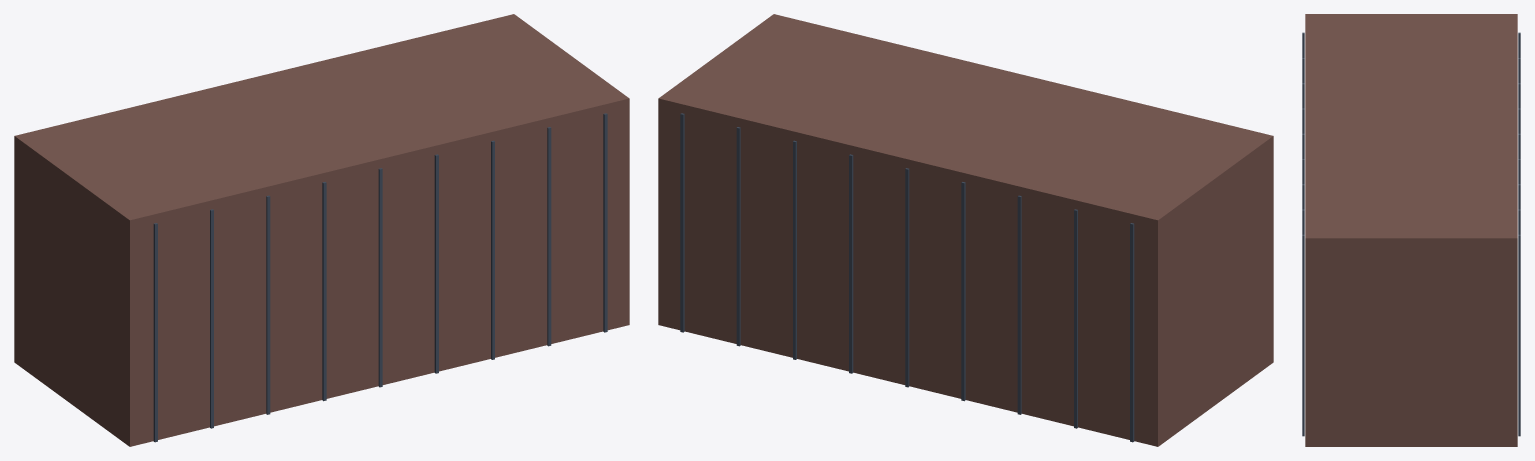
The model's file is container.glb.
The picture shows the model from 3 angles, left to right: view 1: azimuth 30°, elevation 25°; view 2: azimuth 150°, elevation 25°; view 3: azimuth 270°, elevation 25°; orthographic projection. The views are drawn at different scales.
Visible parts, largest first — view 1: container; view 2: container; view 3: container.
Boxes of the visible parts, x1,y1,x2,y2 form: container: (14,14,629,446); container: (658,14,1273,446); container: (1302,14,1520,446).
Bounding box in the file's own units: 6 × 2.6 × 2.46.
